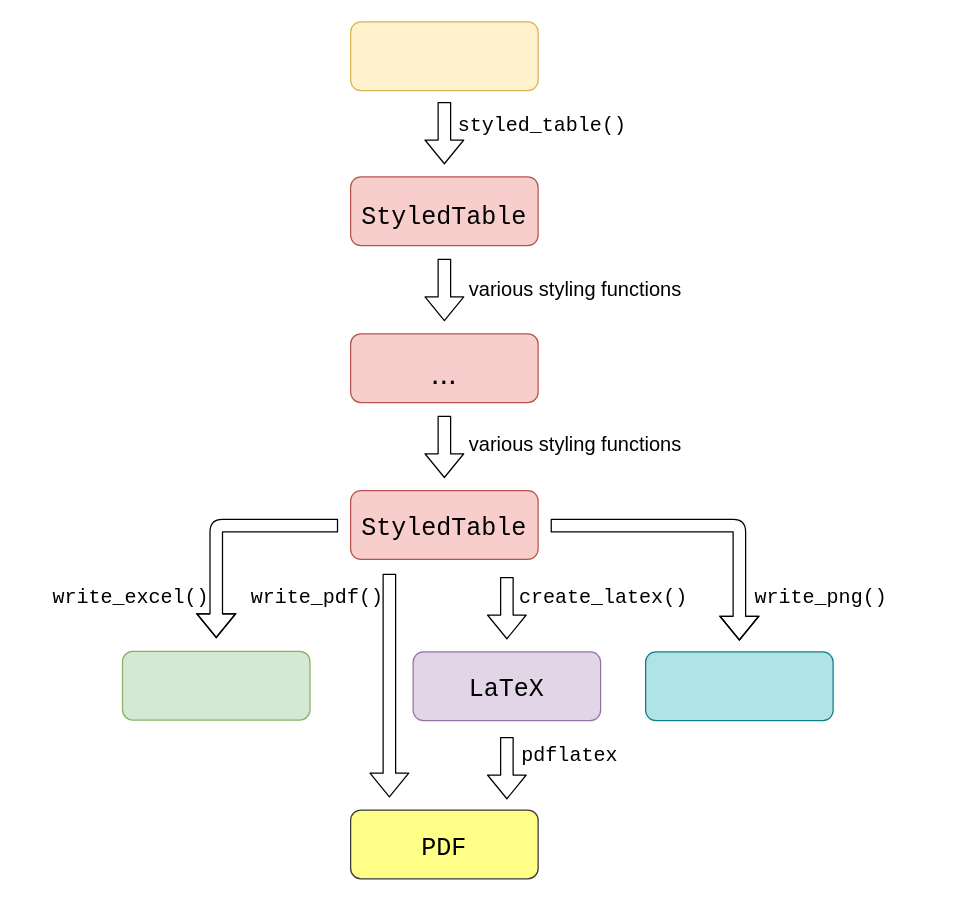
Some shapes in this 953 by 901 pixel diagram are drawn without their labels. Here are the shapes that lost their labels. From the top down, the centre of each, then its label:
the point at 443,56: data.frame
the point at 215,685: Excel
the point at 738,686: PNG
